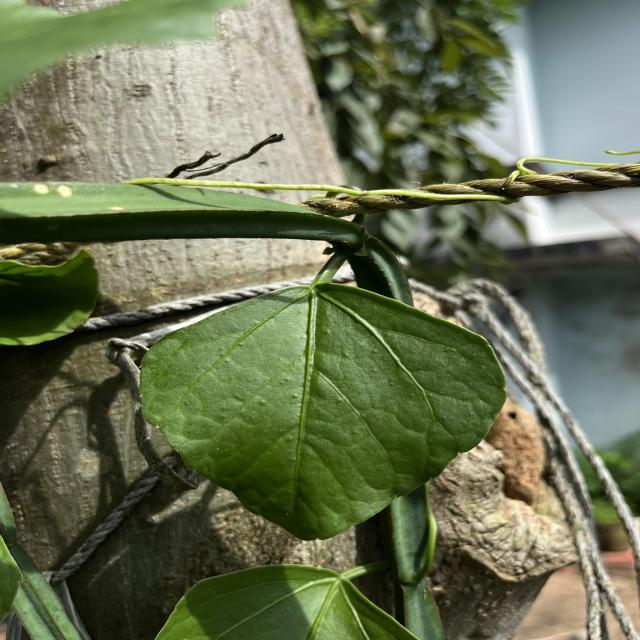Cissus quadrangularis: (136, 278, 512, 543)
